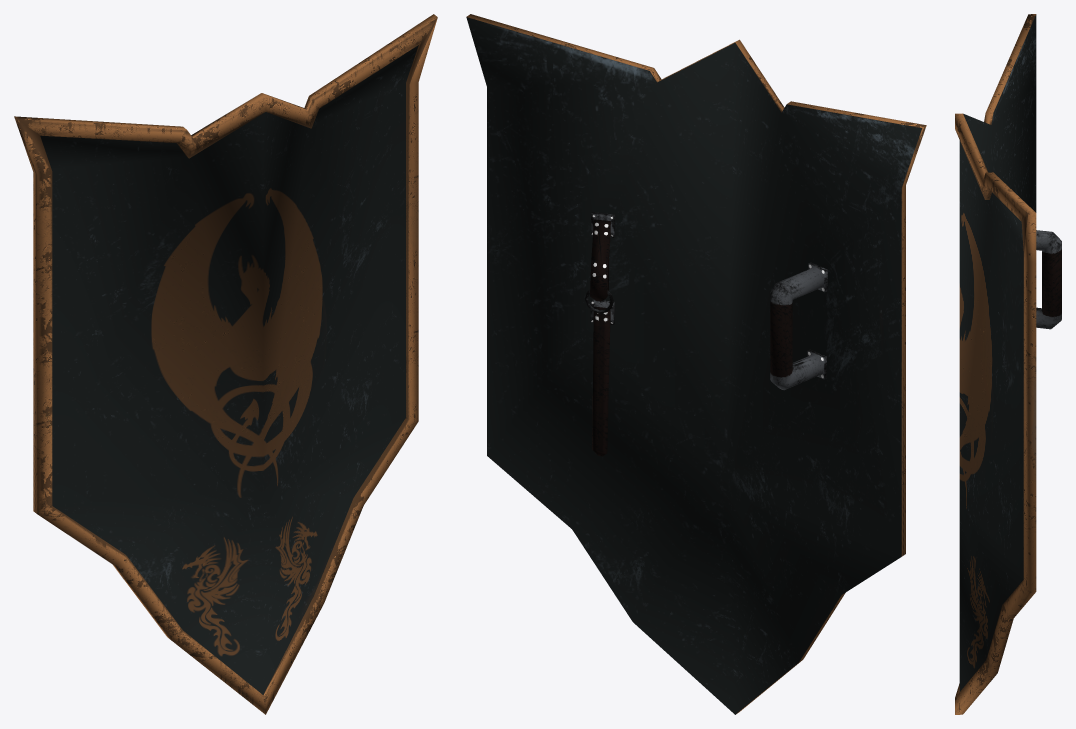
File: Shieldv2.glb
3 renders of one model, left to right at view 1: azimuth 30°, elevation 25°; view 2: azimuth 150°, elevation 25°; view 3: azimuth 270°, elevation 25°, orthographic. The views are drawn at different scales.
Parts seen in each view (by area): view 1: Rim; view 2: Rim, Rim.001; view 3: Rim, Rim.001.
Boxes of the visible parts, <box> form: Rim: <box>14,14,437,714</box>; Rim: <box>466,14,926,714</box>; Rim.001: <box>585,212,827,456</box>; Rim: <box>955,14,1036,714</box>; Rim.001: <box>1036,230,1061,329</box>.
Bounding box in the file's own units: 2.97 × 4.19 × 0.6746.
3 materials, 3 textured.
